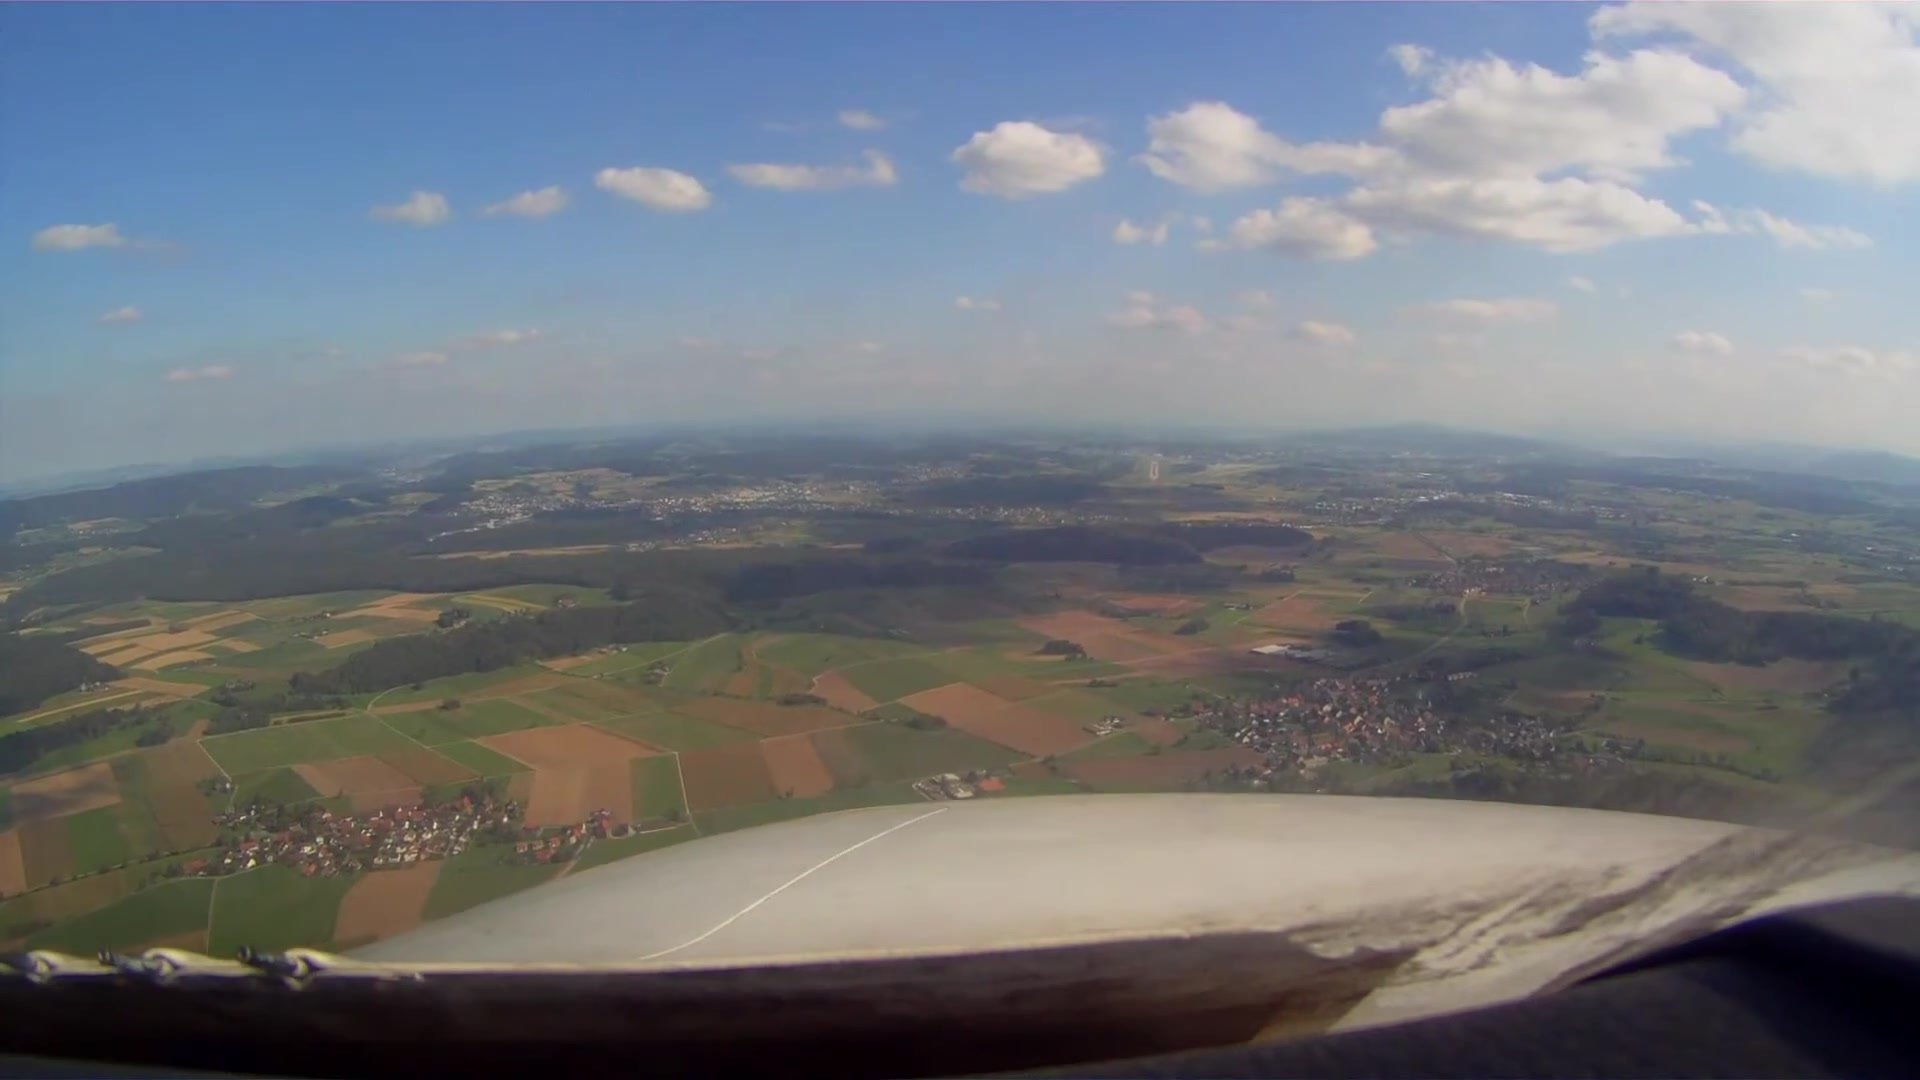runway: (1149, 460, 1160, 479)
